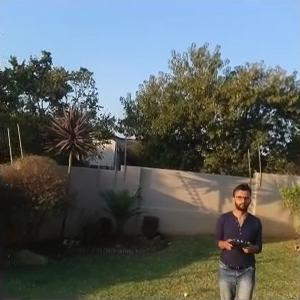follow: (214, 176, 270, 298)
